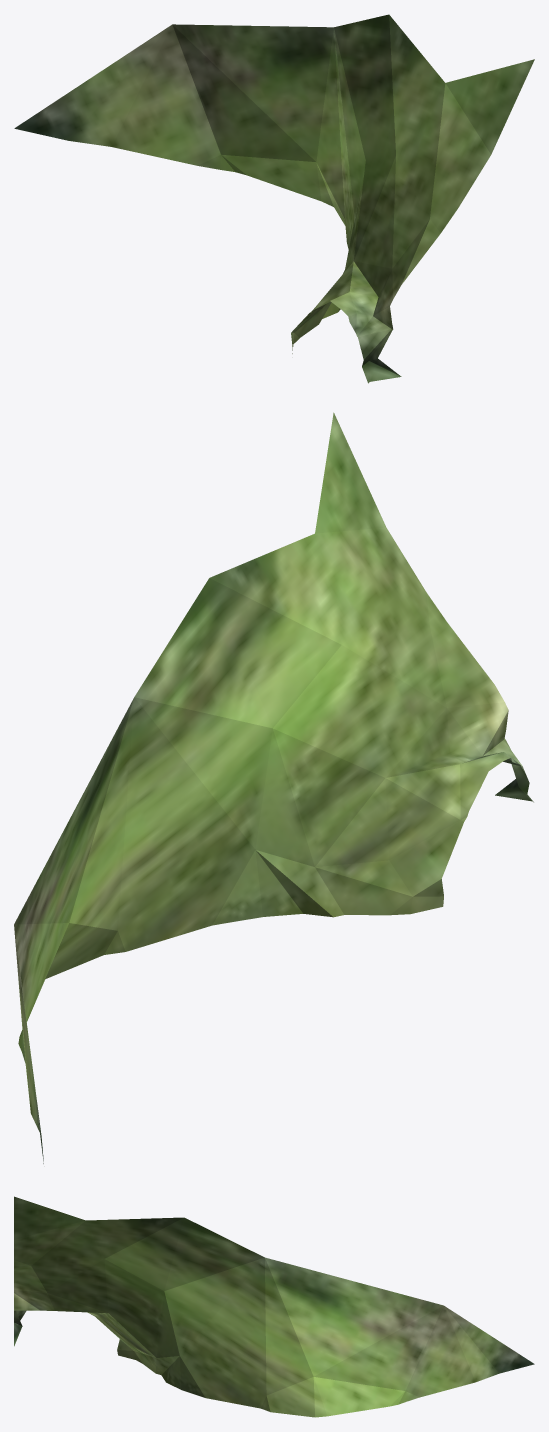
3 views of the same model, one above another, from view 1: azimuth 30°, elevation 25°; view 2: azimuth 150°, elevation 25°; view 3: azimuth 270°, elevation 25° (orthographic). The views are drawn at different scales.
Bounding box in the file's own units: 9.76 × 15.75 × 34.62.
Materials: 1 (1 with a texture image).
